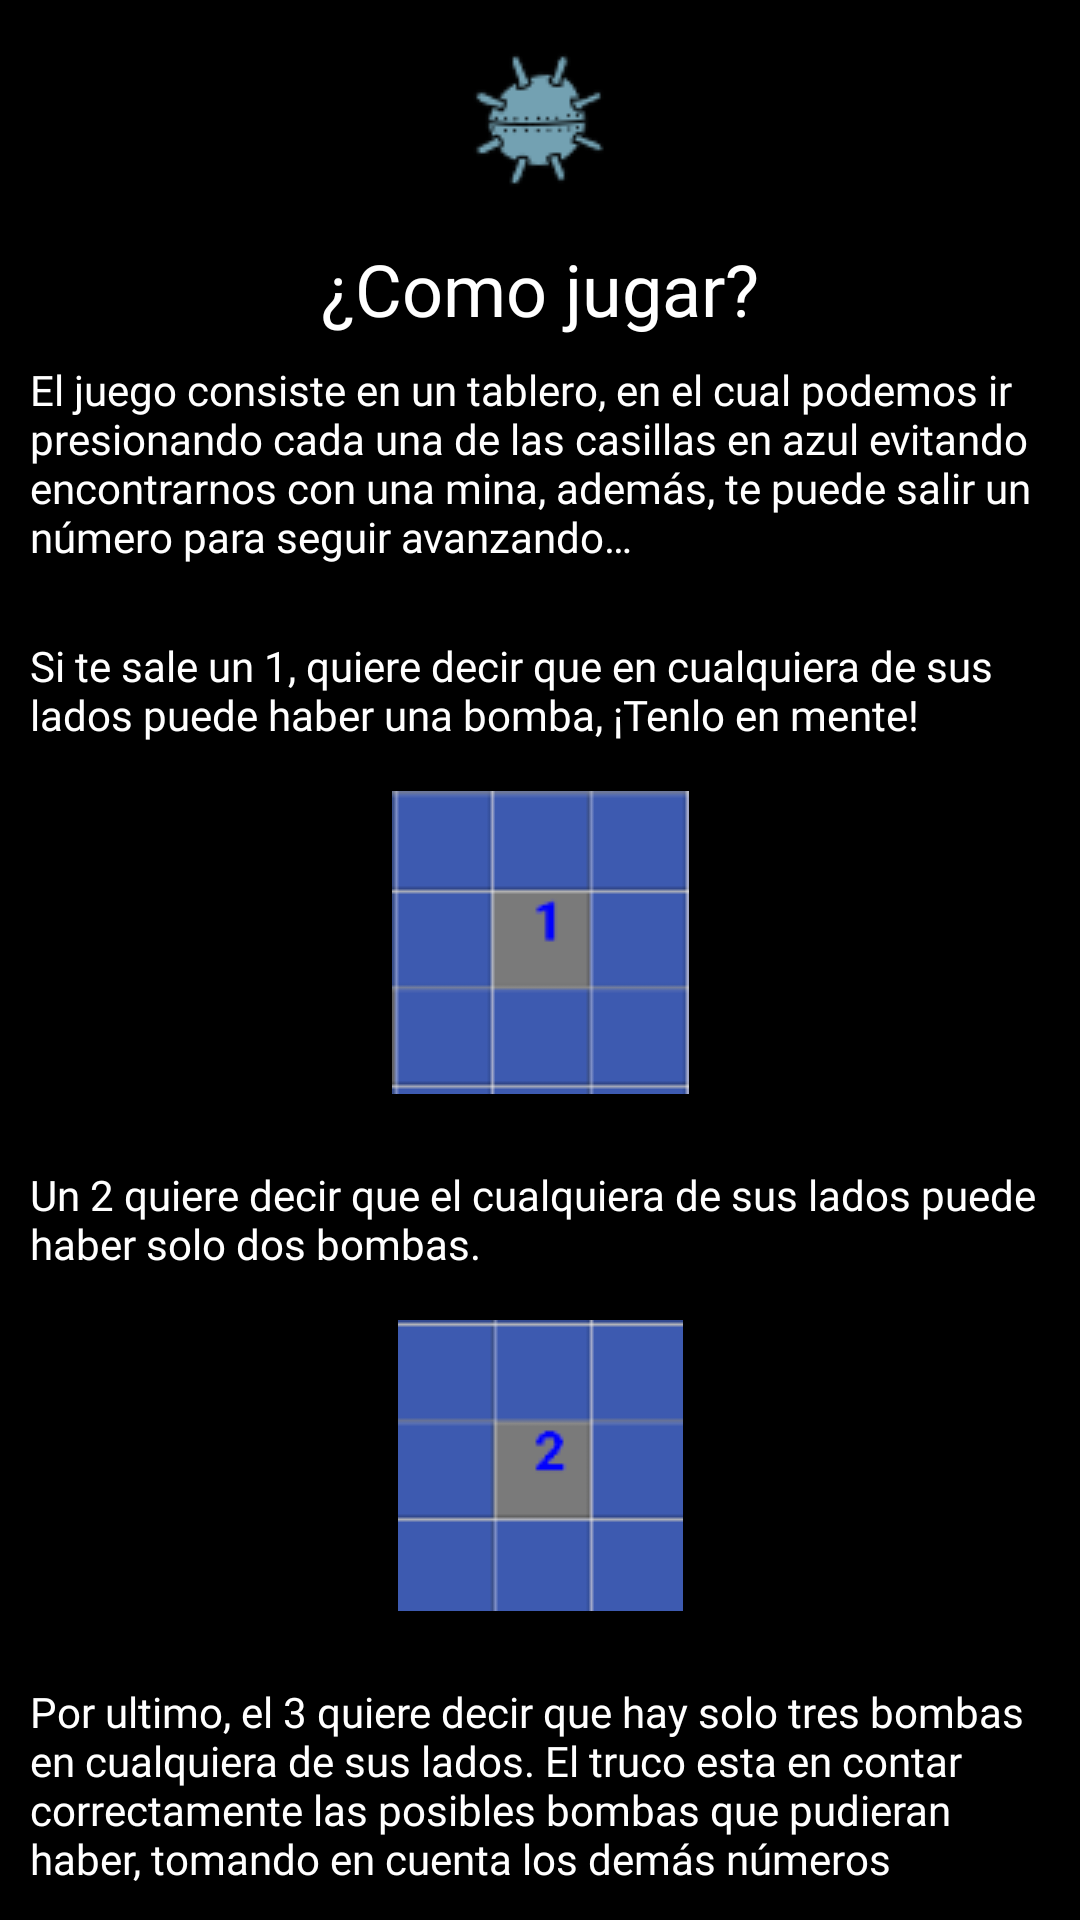

Where to tap for icons on this 1080*1920 app screen, as (x=x, y=y):
Ejemplo bomba 1: (x=540, y=942)
Ejemplo bomba 2: (x=540, y=1465)
mine: (x=539, y=120)
